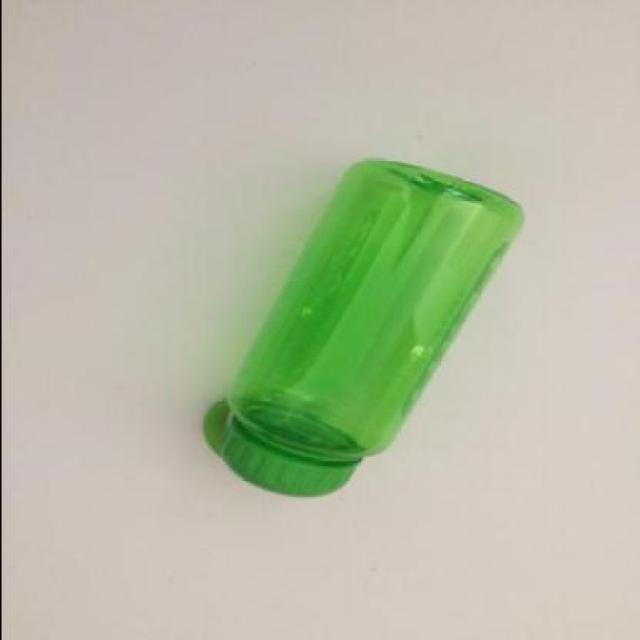PLASTIC: (247, 159, 525, 461), (202, 400, 362, 498)
